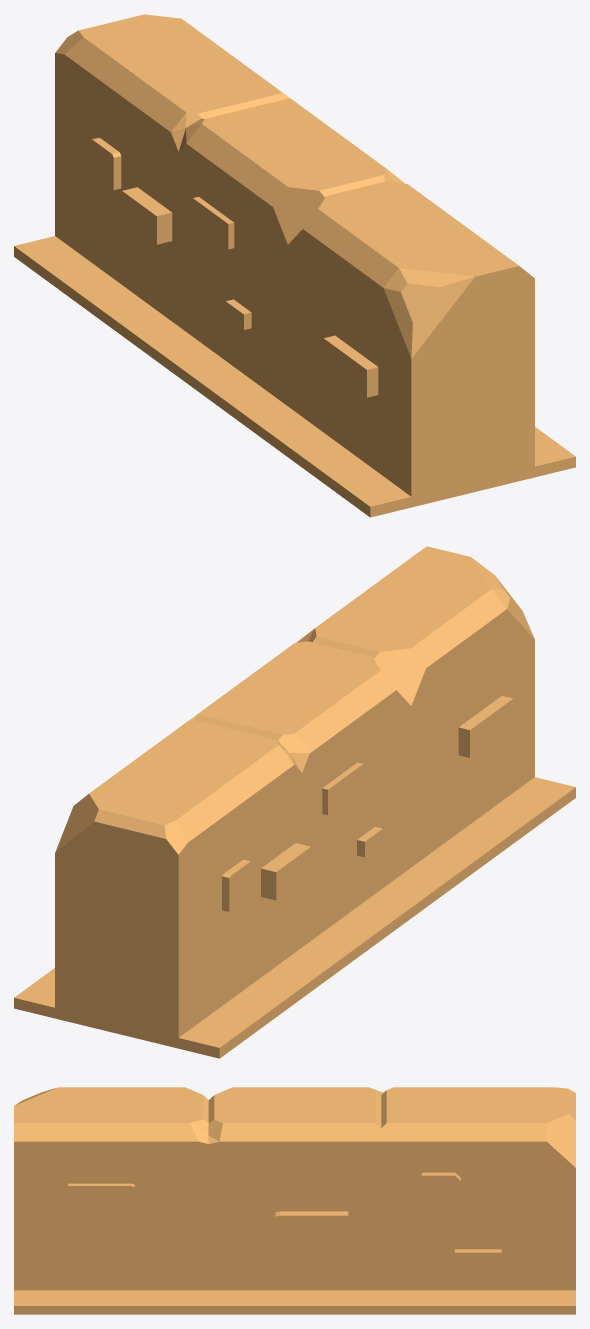
Rendered from 3x1Wall.fbx.
3 renders of one model, top to bottom at view 1: azimuth 30°, elevation 25°; view 2: azimuth 150°, elevation 25°; view 3: azimuth 270°, elevation 25°, orthographic. The views are drawn at different scales.
Visible parts, largest first — view 1: 3x1 Wall; view 2: 3x1 Wall; view 3: 3x1 Wall.
Boxes of the visible parts, x1,y1,x2,y2 form: 3x1 Wall: [14, 14, 575, 517]; 3x1 Wall: [14, 546, 575, 1058]; 3x1 Wall: [14, 1087, 575, 1314].
Bounding box in the file's own units: 100 × 100 × 300.
